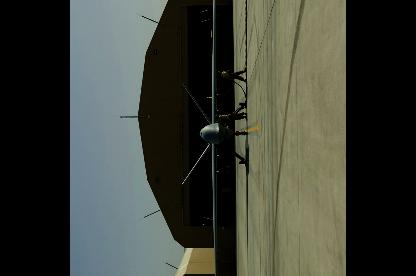MQ9: (181, 0, 247, 273)
